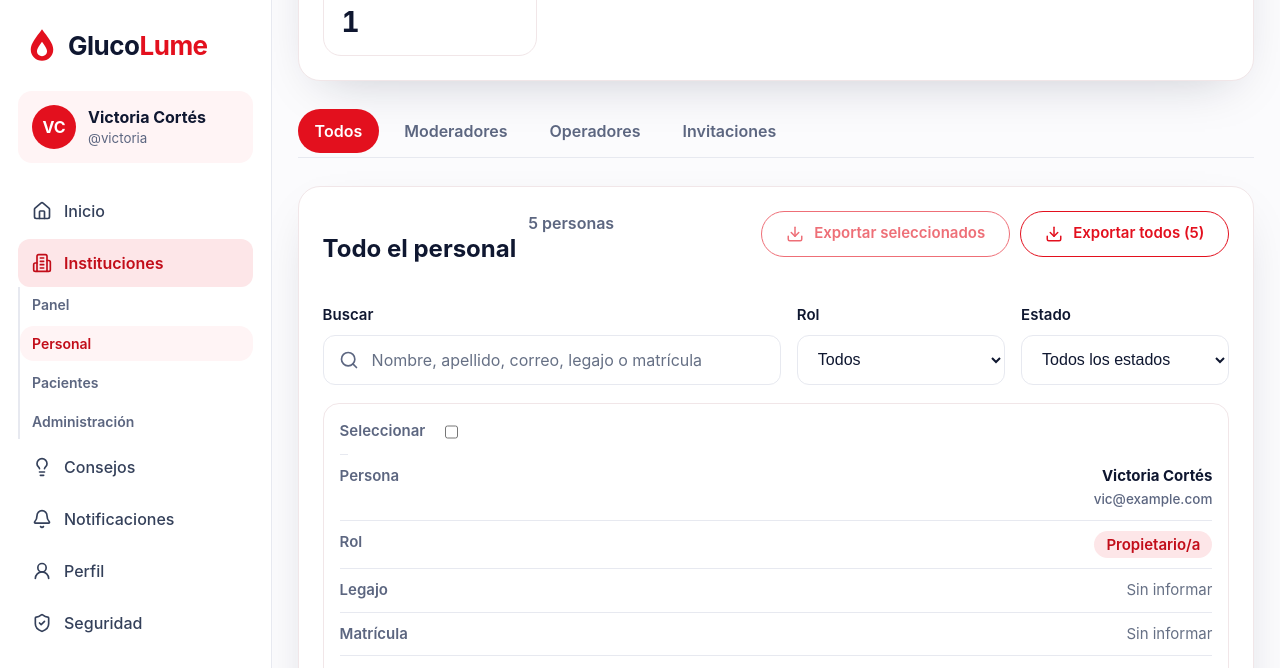
Test: Personal: vista general › sin resultados explica que no hay coincidencias y ofrece limpiar
(page scrolled)
Type "zzzz" into the field labelled "Buscar" at (552, 360), box [323,335,781,385]
(page scrolled)
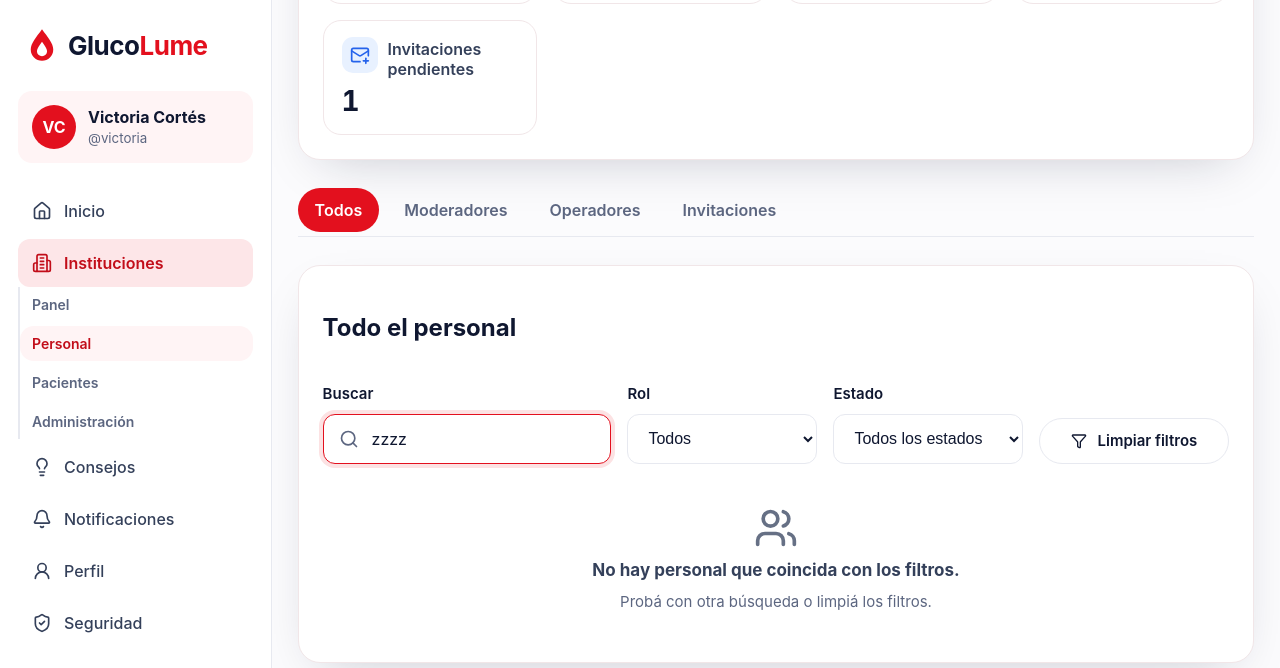
Check: the text "No hay personal que coincida con los filtros." is shown, box [592,558,960,584]
Check: the button "Limpiar filtros" is shown, box [1039,418,1229,464]
